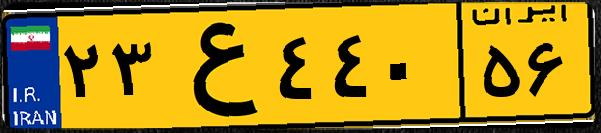0: (385, 28, 445, 110)
2: (57, 26, 110, 100)
3: (110, 28, 158, 98)
4: (270, 28, 330, 110), (330, 28, 385, 110)
5: (475, 38, 525, 113)
6: (525, 38, 570, 115)
ع: (158, 12, 270, 120)
